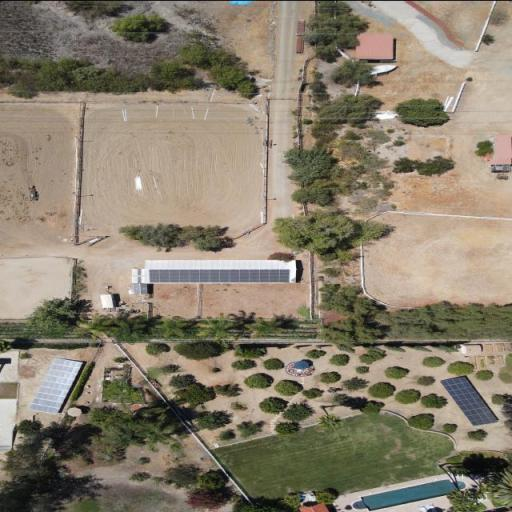solar-panel: (28, 357, 83, 414), (440, 376, 499, 425), (149, 268, 290, 282)
